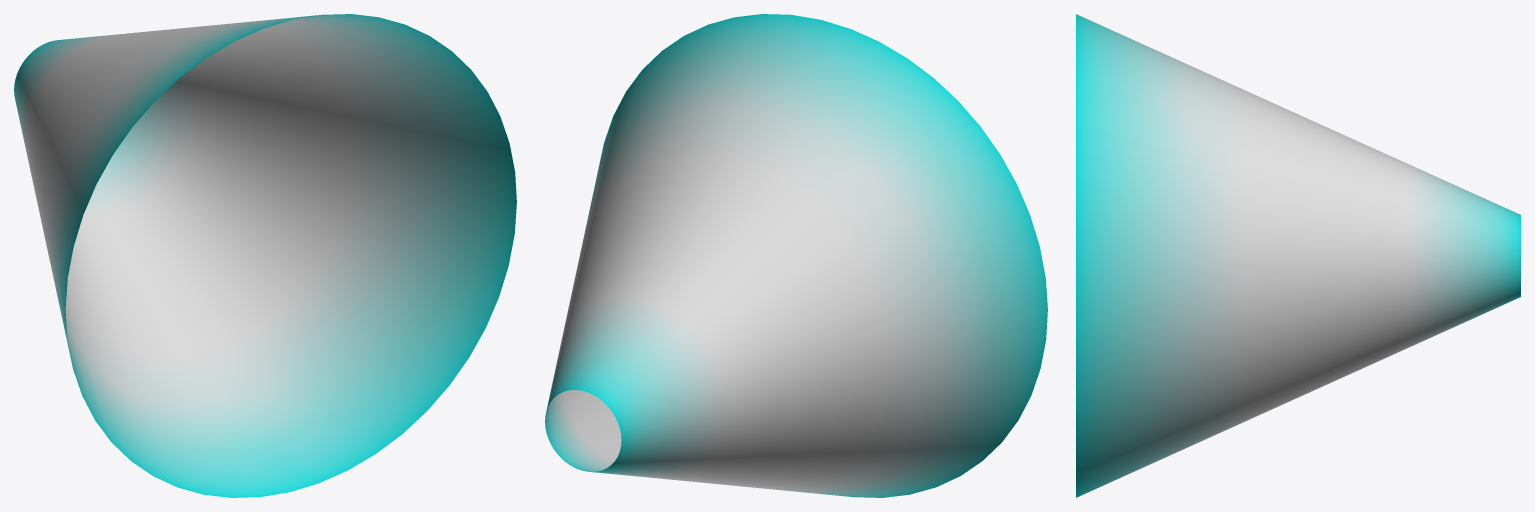
Rendered from Bumping FX Mesh.fbx.
3 renders of one model, left to right at view 1: azimuth 30°, elevation 25°; view 2: azimuth 150°, elevation 25°; view 3: azimuth 270°, elevation 25°, orthographic. The views are drawn at different scales.
Visible parts, largest first — view 1: Big_Bot.001; view 2: Big_Bot.001; view 3: Big_Bot.001.
Part boxes in pixels (x1,y1,x2,y2): Big_Bot.001: [14, 14, 516, 497]; Big_Bot.001: [545, 14, 1047, 497]; Big_Bot.001: [1076, 14, 1520, 497].
Size of the model in its own units: 675 by 674 by 619.
